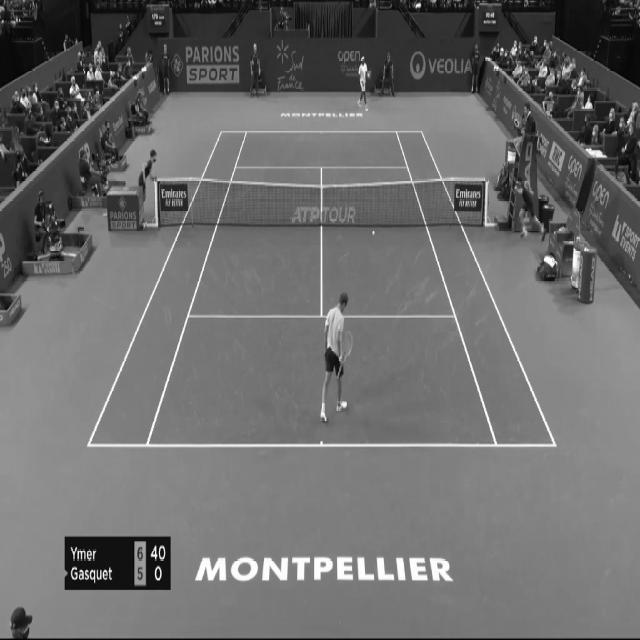tennis-court: (87, 131, 557, 447)
